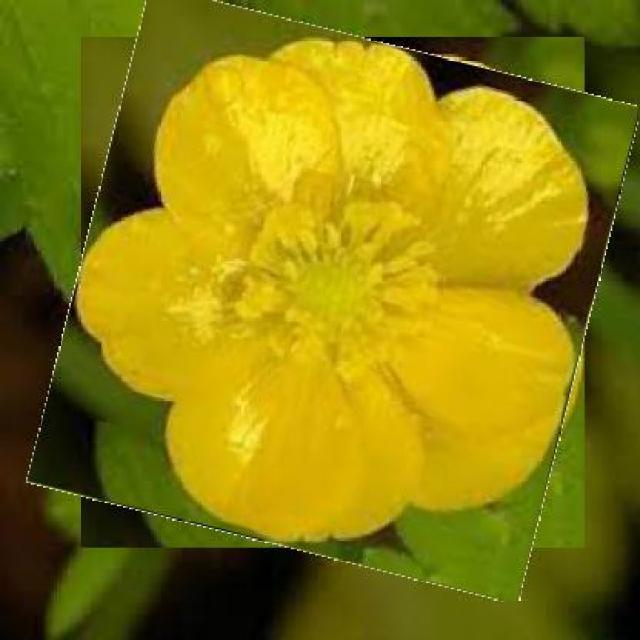Flower: (53, 10, 613, 576)
